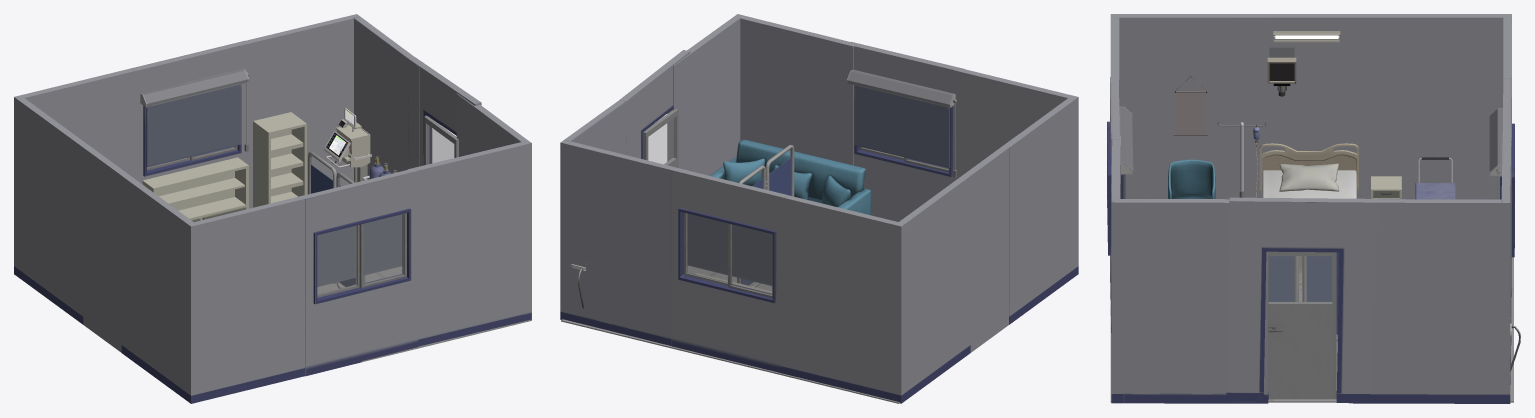
3 views of the same model, side by side, from view 1: azimuth 30°, elevation 25°; view 2: azimuth 150°, elevation 25°; view 3: azimuth 270°, elevation 25° (orthographic). The views are drawn at different scales.
Parts seen in each view (by area): view 1: Wall1-material, Wall2-material.001, WindowWall-material.001, Wall1-material.001, Wall2-material, WindowWall-material, Wall3-material, Cabinet1-material, Cabinet2-material, DoorWall-material, Machine-material, Door-material (+2 smaller); view 2: Wall2-material, Wall2-material.001, Wall1-material.001, WindowWall-material, Wall1-material, WindowWall-material.001, Wall3-material, Sofa-material, DoorWall-material, Door-material, Curtain-material, Ground-material; view 3: Wall1-material.001, Wall2-material.001, Wall2-material, Wall3-material, DoorWall-material, Wall1-material, Door-material, Bed-material, Curtain-material, WindowWall-material.001, WindowWall-material, Chair-material (+7 smaller).
Part boxes in pixels (x1,y1,x2,y2): Wall1-material: (121,174,310,403); Wall2-material.001: (407,93,531,346); WindowWall-material.001: (305,168,418,376); Wall1-material.001: (237,14,419,208); Wall2-material: (14,68,134,324); WindowWall-material: (131,40,249,183); Wall3-material: (83,146,143,352); Cabinet1-material: (253,112,306,207); Cabinet2-material: (142,157,248,221); DoorWall-material: (408,57,481,168); Machine-material: (324,108,371,182); Door-material: (424,116,458,165); Wall2-material: (781,174,970,403); Wall2-material.001: (667,14,853,175); Wall1-material.001: (560,93,683,345); WindowWall-material: (671,169,787,372); Wall1-material: (954,67,1078,324); WindowWall-material.001: (846,41,963,221); Wall3-material: (964,134,1018,352); Sofa-material: (710,139,870,215); DoorWall-material: (620,50,690,159); Door-material: (642,109,678,167); Curtain-material: (737,145,794,286); Ground-material: (561,265,899,403); Wall1-material.001: (1353,136,1511,403); Wall2-material.001: (1111,136,1268,403); Wall2-material: (1354,14,1511,199); Wall3-material: (1229,14,1377,198); DoorWall-material: (1226,197,1377,403); Wall1-material: (1110,14,1267,199); Door-material: (1268,251,1336,399); Bed-material: (1259,143,1358,285); Curtain-material: (1268,252,1339,340); WindowWall-material.001: (1107,77,1133,332); WindowWall-material: (1489,78,1514,340); Chair-material: (1168,159,1215,198).
Size of the model in its own units: 0.9843 by 0.4964 by 0.9085.
Materials: 29 (29 with a texture image).
